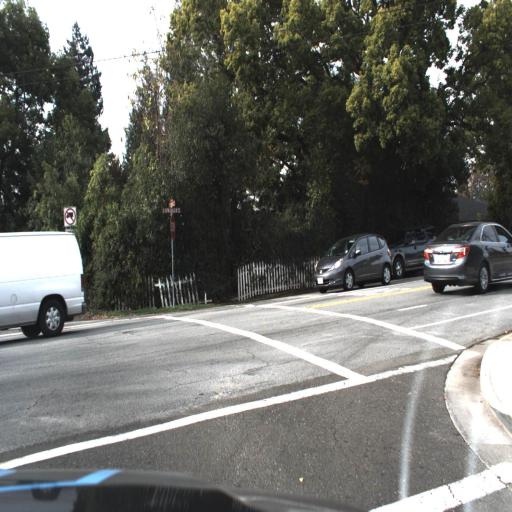car: (0, 231, 87, 341), (425, 221, 512, 297), (315, 229, 391, 294), (391, 219, 427, 281)
